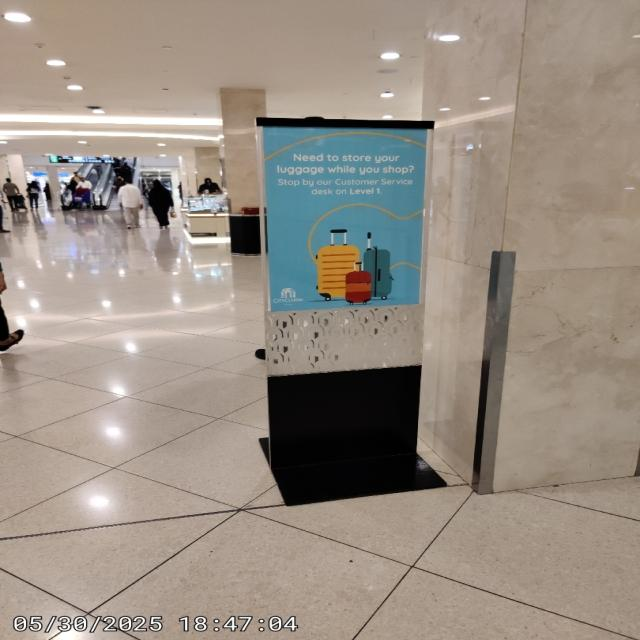poster: (256, 116, 433, 462)
